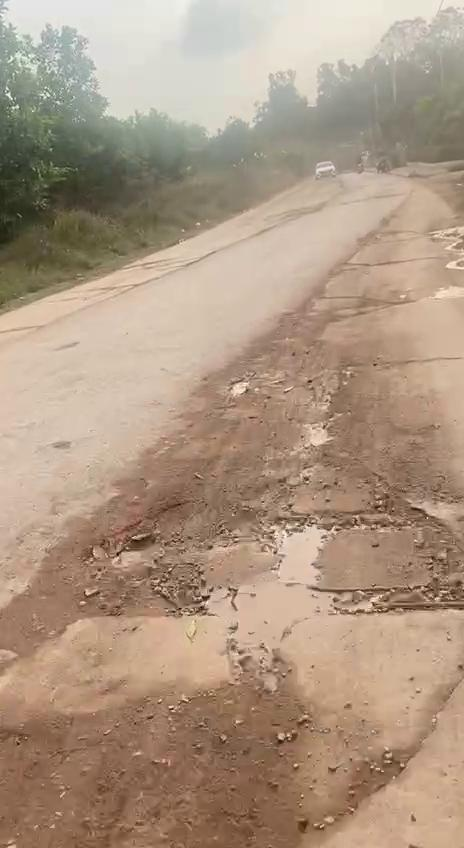pothole: (203, 495, 464, 677)
